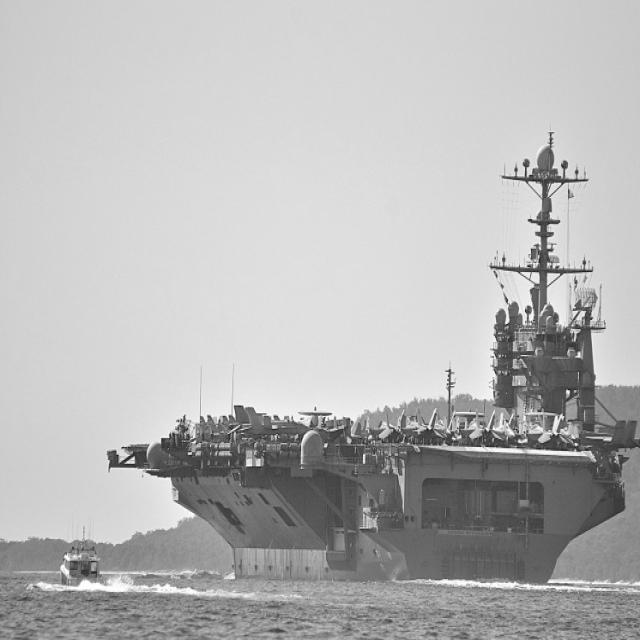Portanaves: (103, 106, 640, 592)
